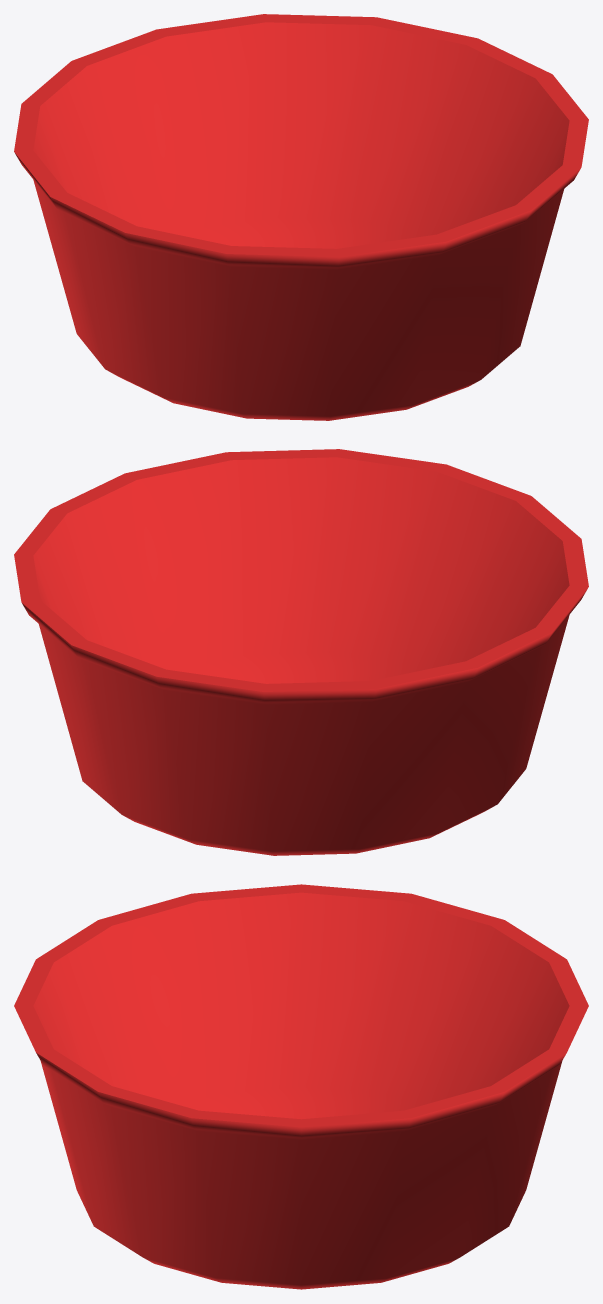
Rendered from laundry_basket.gltf.
3 views of the same model, one above another, from view 1: azimuth 30°, elevation 25°; view 2: azimuth 150°, elevation 25°; view 3: azimuth 270°, elevation 25° (orthographic).
Parts seen in each view (by area): view 1: Plastic Basket.001; view 2: Plastic Basket.001; view 3: Plastic Basket.001.
Part boxes in pixels (<box>): Plastic Basket.001: <box>14,14,588,420</box>; Plastic Basket.001: <box>14,449,588,855</box>; Plastic Basket.001: <box>14,884,588,1289</box>.
Size of the model in its own units: 0.7423 by 0.2784 by 0.7423.
Materials: 1 (1 with a texture image).
